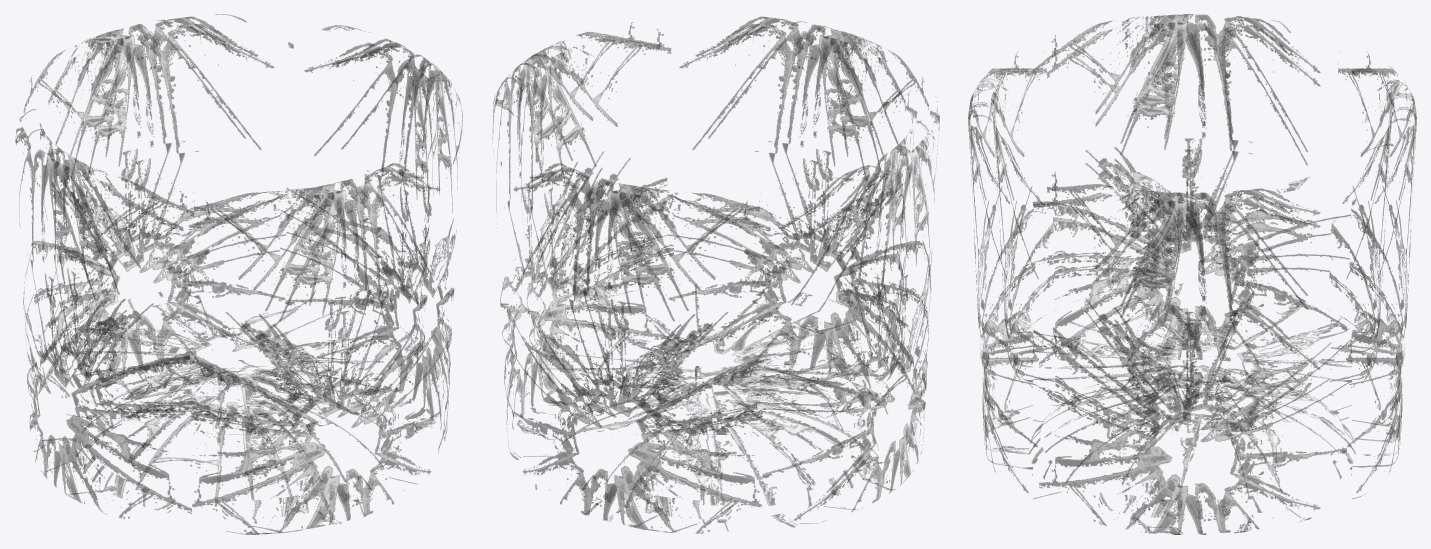
The model's file is vaso.obj.
The picture shows the model from 3 angles, left to right: view 1: azimuth 30°, elevation 25°; view 2: azimuth 150°, elevation 25°; view 3: azimuth 270°, elevation 25°; orthographic projection.
Parts seen in each view (by area): view 1: Cylinder_Cylinder_001; view 2: Cylinder_Cylinder_001; view 3: Cylinder_Cylinder_001.
Part boxes in pixels (x1,y1,x2,y2): Cylinder_Cylinder_001: [15, 14, 462, 534]; Cylinder_Cylinder_001: [492, 16, 939, 533]; Cylinder_Cylinder_001: [968, 14, 1416, 534].
Bounding box in the file's own units: 1.34 × 1.14 × 1.34.
1 material, 1 textured.
